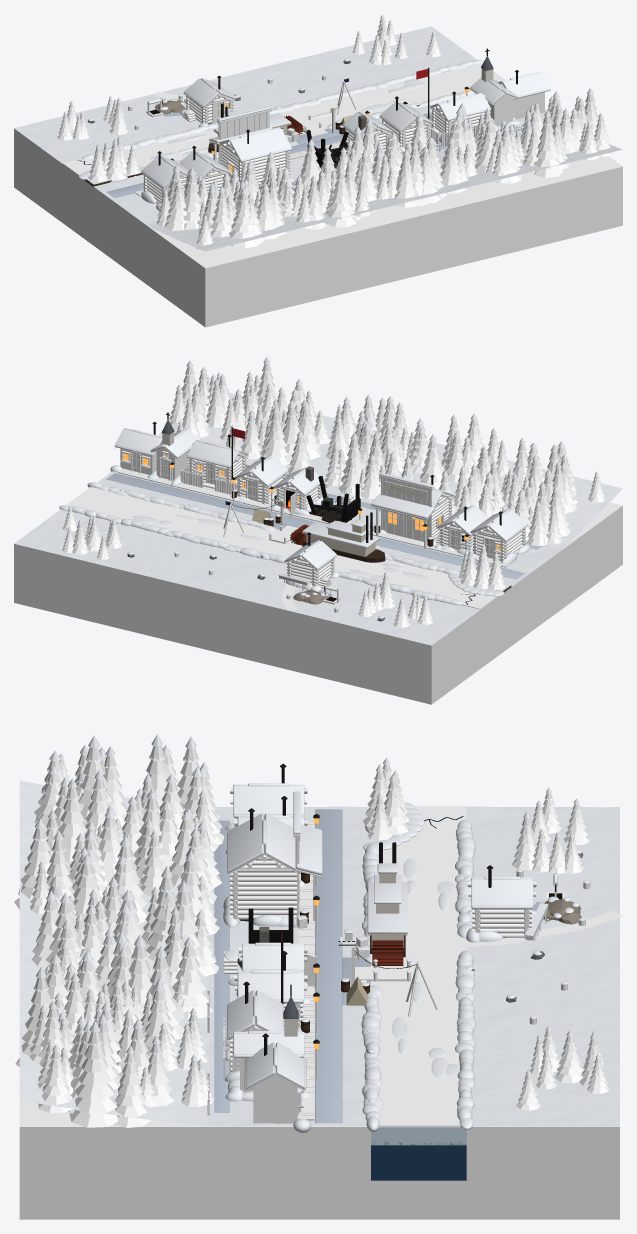
Rendered from town.glb.
3 renders of one model, top to bottom at view 1: azimuth 30°, elevation 25°; view 2: azimuth 150°, elevation 25°; view 3: azimuth 270°, elevation 25°, orthographic. The views are drawn at different scales.
Visible parts, largest first — view 1: plinth, ground, river, roadhouse_roofsnow.001, spruce.063, spruce.149, spruce.054, spruce.076, spruce.083, spruce.093, spruce.092, infirmary_roofsnow.001 (+20 smaller); view 2: plinth, ground, river, street, spruce.030, porchsnow, barracks_roofsnow, spruce.029, infirmary_roofsnow, spruce.015, spruce.014, your_cabin_roofsnow.001 (+15 smaller); view 3: plinth, ground, river, street, backlane, water_section, spruce.023, your_cabin_roofsnow, ice_section, infirmary_core, vera_roofsnow.001, spruce.148 (+59 smaller).
Boxes of the visible parts, box(x1,y1,x2,y2) form: plinth: box(14, 128, 622, 327); ground: box(14, 26, 622, 251); river: box(63, 63, 505, 183); roadhouse_roofsnow.001: box(230, 128, 291, 160); spruce.063: box(533, 109, 563, 177); spruce.149: box(325, 167, 356, 227); spruce.054: box(229, 187, 258, 248); spruce.076: box(183, 167, 201, 229); spruce.083: box(394, 149, 416, 207); spruce.093: box(164, 179, 188, 230); spruce.092: box(440, 137, 465, 193); infirmary_roofsnow.001: box(502, 72, 550, 96); plinth: box(14, 502, 622, 704); ground: box(14, 392, 622, 645); river: box(66, 487, 508, 609); street: box(106, 473, 524, 579); spruce.030: box(263, 406, 289, 465); porchsnow: box(371, 494, 434, 518); barracks_roofsnow: box(187, 441, 238, 466); spruce.029: box(420, 434, 444, 489); infirmary_roofsnow: box(115, 429, 162, 454); spruce.015: box(299, 403, 320, 459); spruce.014: box(283, 400, 299, 462); your_cabin_roofsnow.001: box(488, 509, 527, 540); plinth: box(19, 1100, 619, 1219); ground: box(19, 781, 619, 1126); river: box(371, 806, 466, 1126); street: box(315, 809, 342, 1123); backlane: box(214, 820, 229, 1112); water_section: box(371, 1142, 466, 1180); spruce.023: box(69, 1020, 117, 1127); your_cabin_roofsnow: box(233, 786, 304, 815); ice_section: box(371, 1127, 466, 1145); infirmary_core: box(253, 1086, 297, 1123); vera_roofsnow.001: box(471, 879, 533, 906); spruce.148: box(113, 1045, 150, 1127).
Size of what is drawn, in the model's own units: 34.7 by 9.98 by 27.39.
